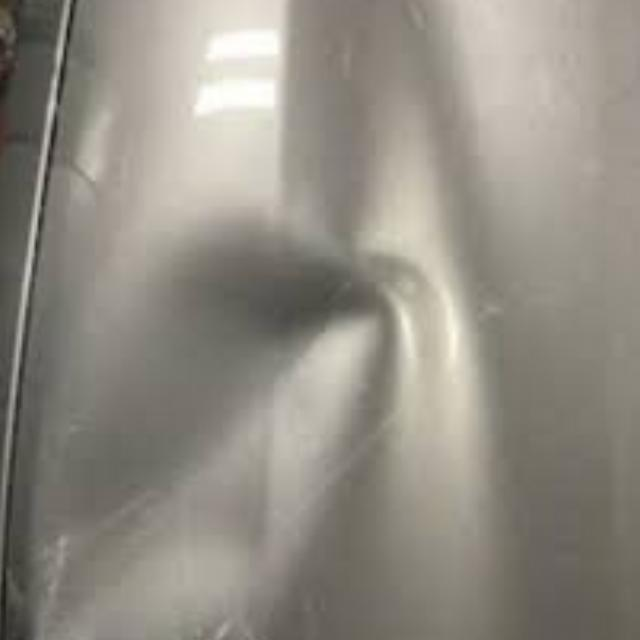dents: (51, 189, 503, 639)
